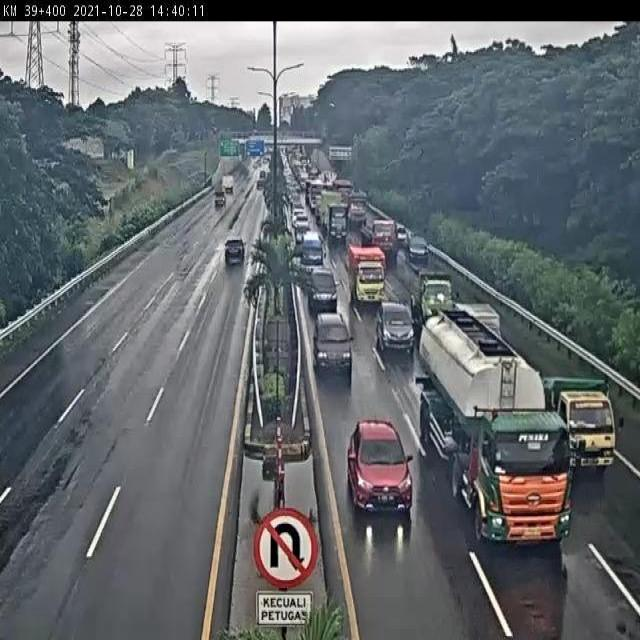bus-s-: (299, 231, 326, 281)
car: (349, 421, 413, 511), (312, 308, 354, 375), (369, 296, 417, 353), (307, 266, 340, 314), (405, 232, 429, 264), (224, 238, 244, 262)
truck-m-: (542, 374, 617, 474), (345, 243, 387, 304), (412, 270, 455, 318)
truck-xl-: (417, 309, 571, 543), (357, 215, 401, 261)
